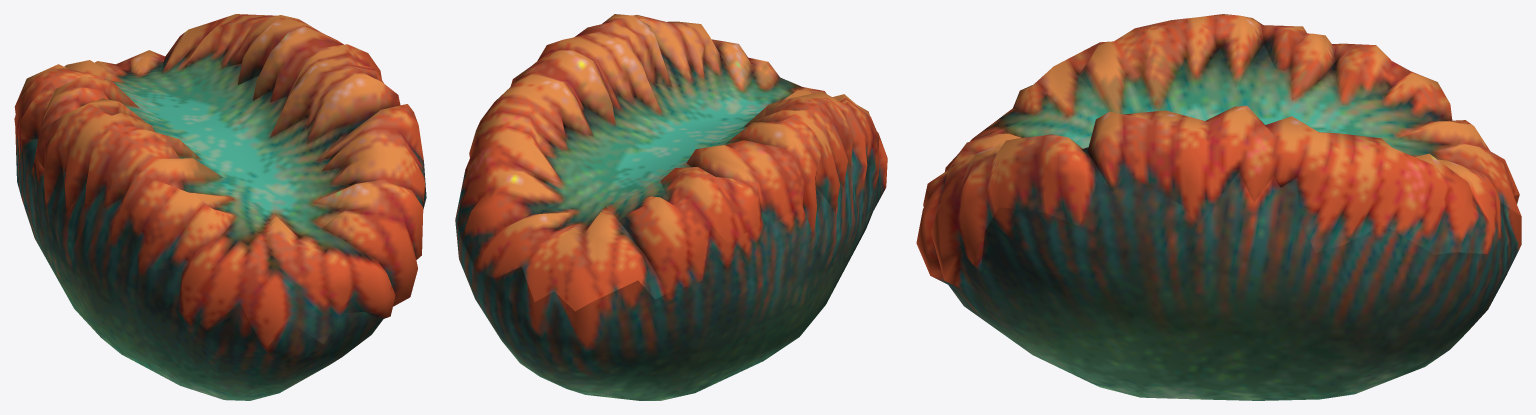
File: Coral V11.fbx
3 views of the same model, side by side, from view 1: azimuth 30°, elevation 25°; view 2: azimuth 150°, elevation 25°; view 3: azimuth 270°, elevation 25° (orthographic). The views are drawn at different scales.
Visible parts, largest first — view 1: Coral V11; view 2: Coral V11; view 3: Coral V11.
Part boxes in pixels (x1,y1,x2,y2): Coral V11: [14, 14, 426, 400]; Coral V11: [455, 14, 887, 400]; Coral V11: [916, 14, 1521, 400].
Size of the model in its own units: 29.53 by 26.74 by 43.51.
